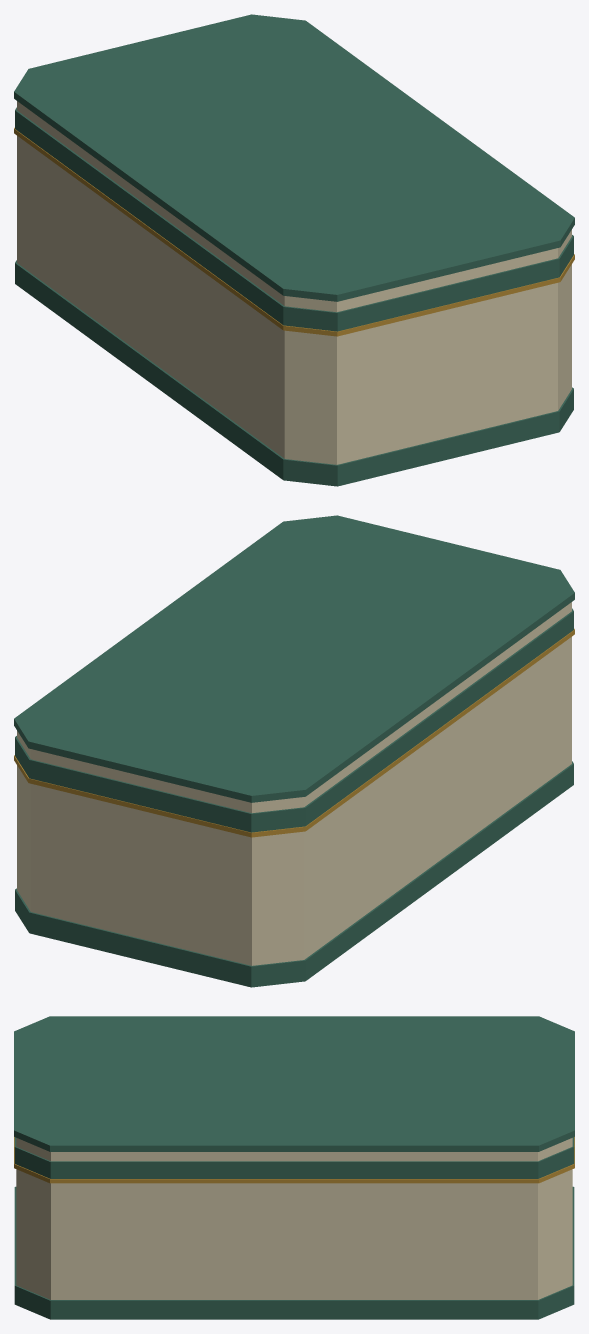
The model's file is vls8_body.obj.
The picture shows the model from 3 angles, top to bottom: view 1: azimuth 30°, elevation 25°; view 2: azimuth 150°, elevation 25°; view 3: azimuth 270°, elevation 25°; orthographic projection. The views are drawn at different scales.
Parts seen in each view (by area): view 1: vls8_body; view 2: vls8_body; view 3: vls8_body.
Part boxes in pixels (x1,y1,x2,y2): vls8_body: (14,14,574,486); vls8_body: (14,515,574,987); vls8_body: (14,1016,574,1319).
Size of the model in its own units: 2.64 by 1.66 by 4.84.
